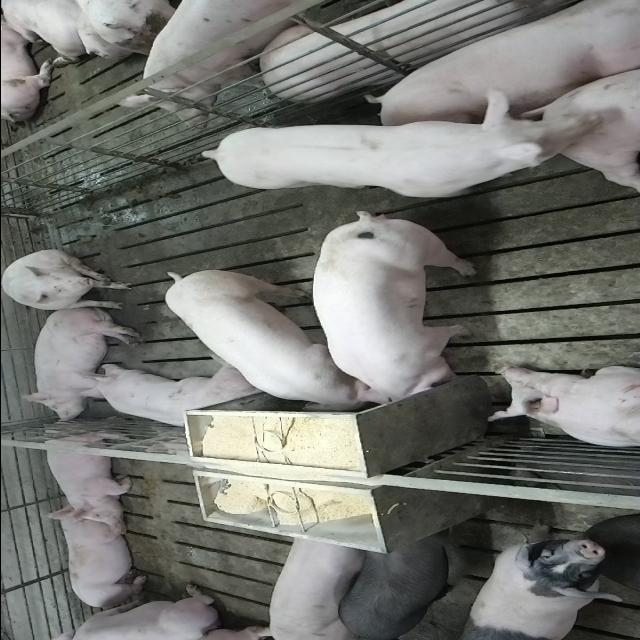Feeding: (308, 210, 479, 408), (162, 264, 380, 412)
Lateral_lying: (367, 0, 640, 124), (262, 0, 578, 100), (17, 307, 142, 425)
Sitting: (1, 250, 134, 312)
Standing: (200, 112, 623, 200), (120, 0, 351, 127), (459, 534, 615, 638), (336, 528, 482, 638), (268, 525, 368, 637)
Sternal_lying: (486, 362, 640, 448), (72, 365, 260, 431), (49, 509, 151, 612), (35, 584, 224, 638), (38, 425, 138, 524)
